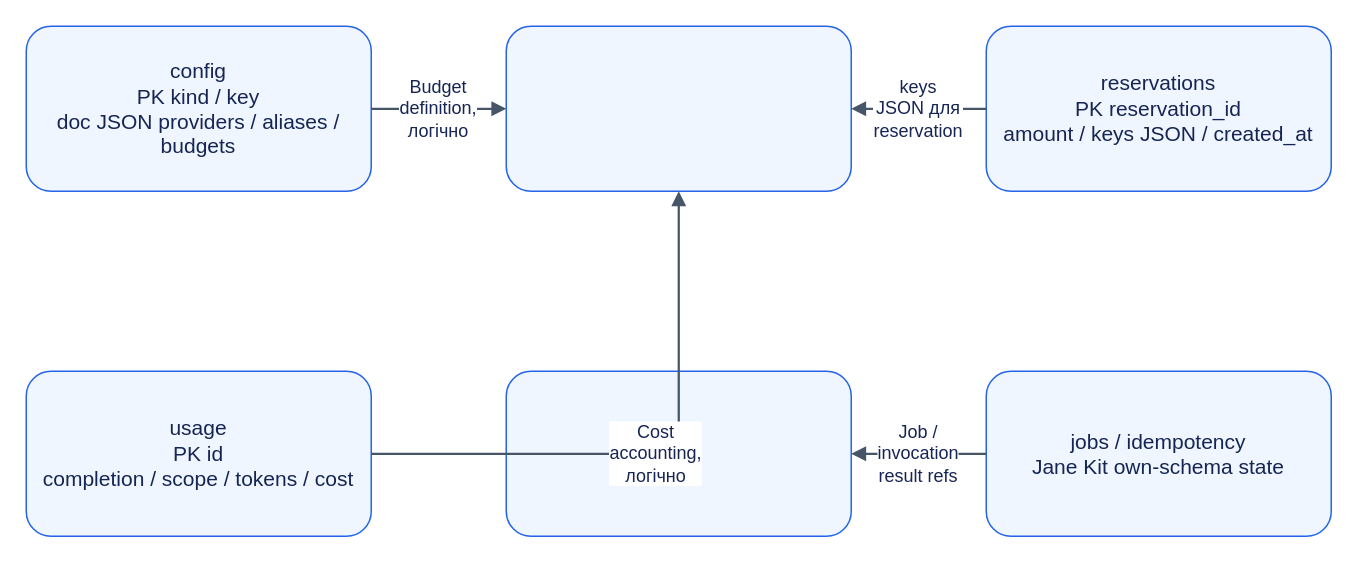
Some shapes in this 1358 by 563 pixel diagram are drawn without their labels. Here are the shapes that lost their labels. From the top down, the centre of each, then its label:
[678,108]: counters PK scope_type / scope_id / window_key spent / reserved / requests
[678,453]: invocations PK invocation_id result JSON
